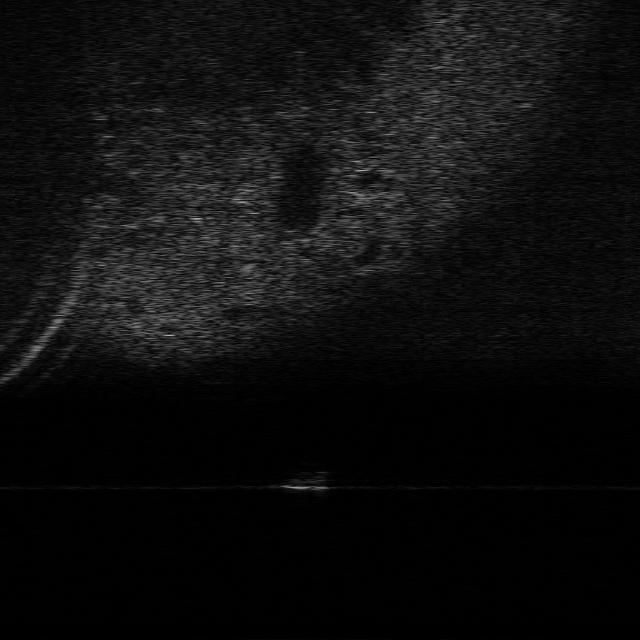cube: (289, 466, 330, 494)
